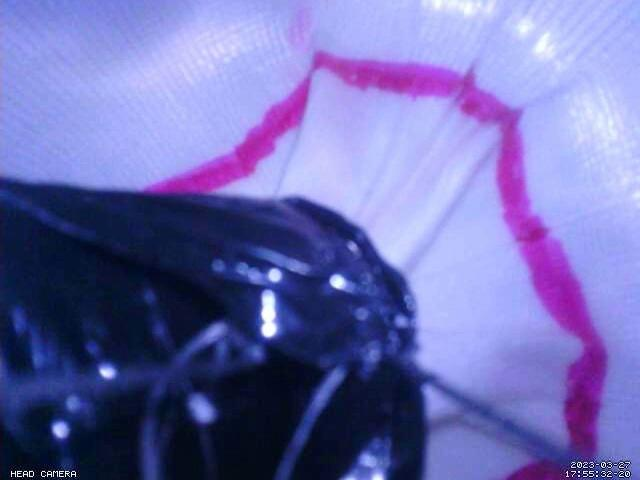red-circle: (142, 49, 610, 480)
